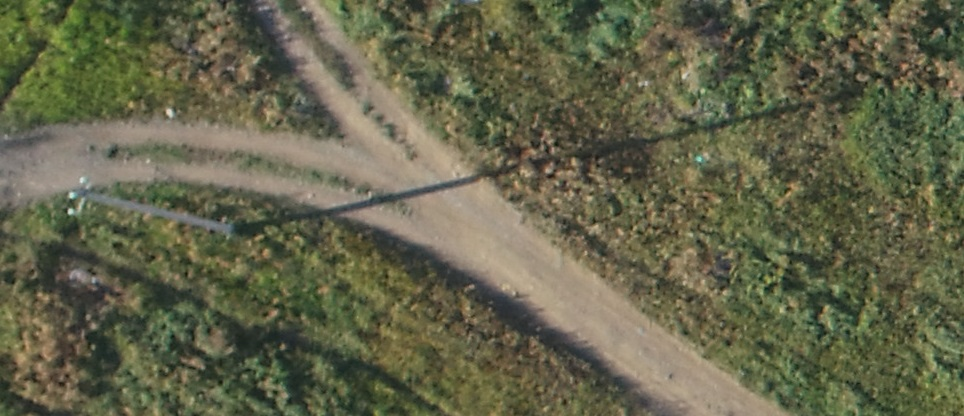opora: (60, 174, 373, 239)
